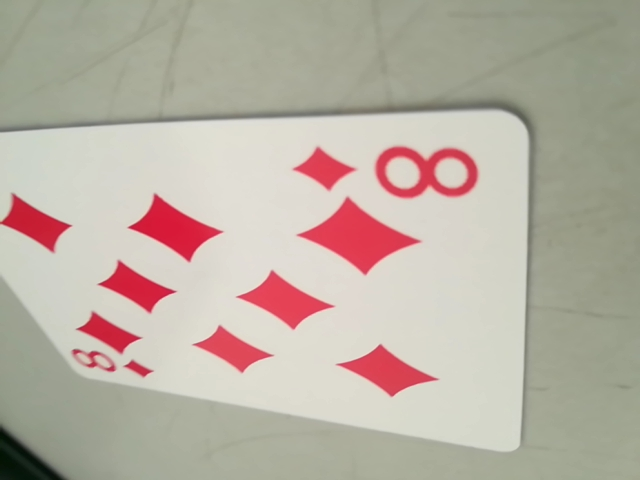fk 8: (294, 133, 488, 206), (68, 344, 154, 381)
